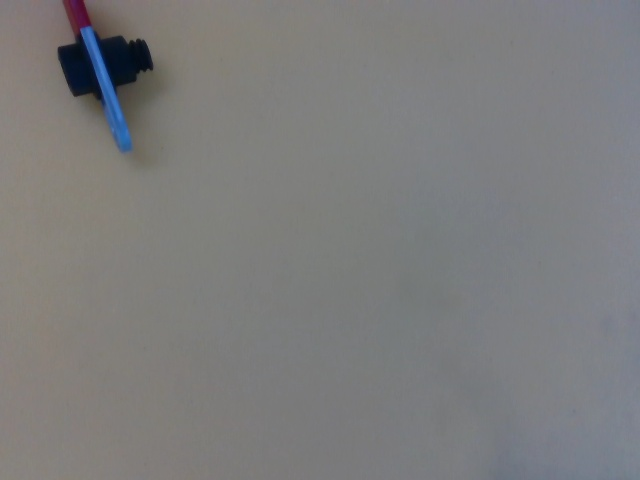part_1_good: (42, 0, 162, 158)
